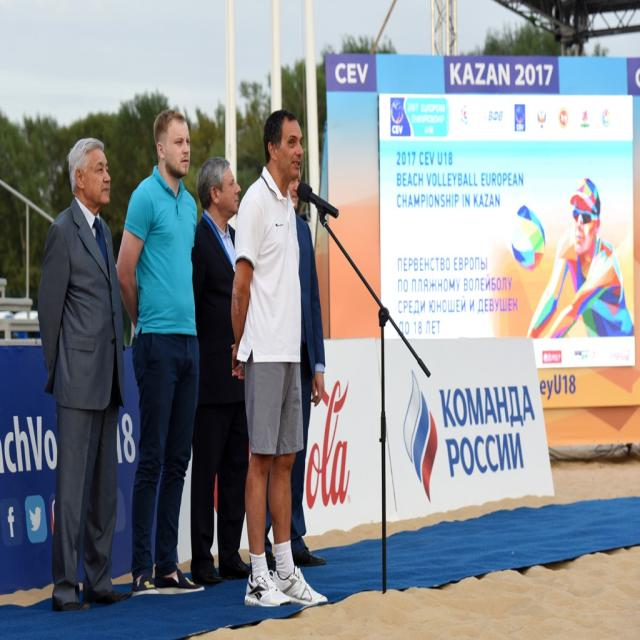body: (227, 106, 332, 615), (34, 131, 135, 618), (113, 103, 209, 601), (248, 164, 328, 578), (190, 155, 250, 583), (506, 172, 638, 354)
